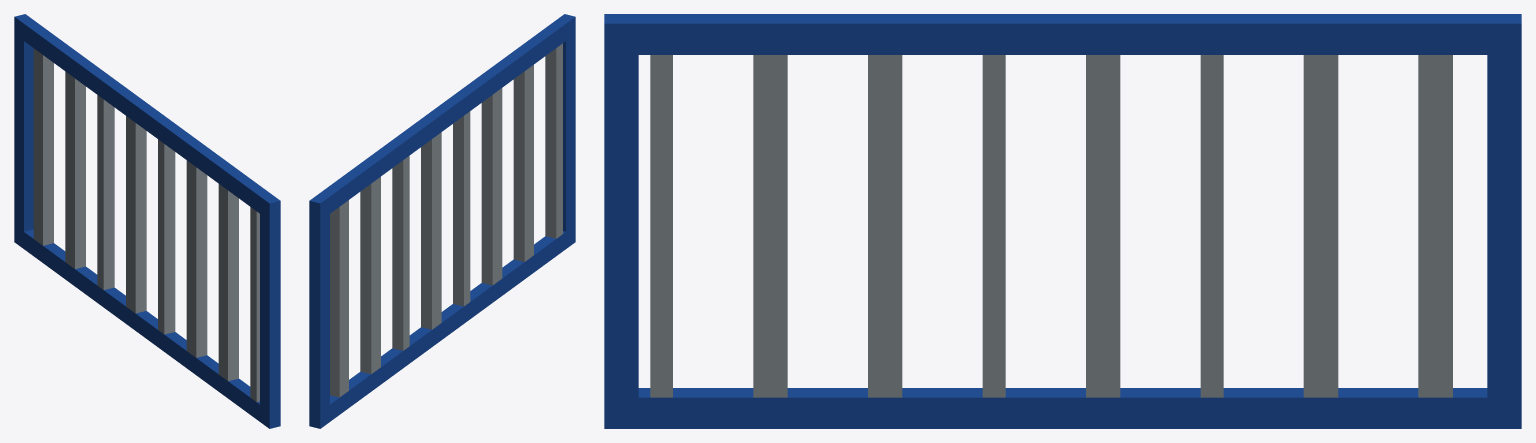
File: flatbed_truck_headboard.glb
3 renders of one model, left to right at view 1: azimuth 30°, elevation 25°; view 2: azimuth 150°, elevation 25°; view 3: azimuth 270°, elevation 25°, orthographic. The views are drawn at different scales.
Visible parts, largest first — view 1: body:compound; view 2: body:compound; view 3: body:compound.
Boxes of the visible parts, x1=… form: body:compound: x1=14, y1=14, x2=280, y2=428; body:compound: x1=309, y1=14, x2=575, y2=428; body:compound: x1=604, y1=14, x2=1521, y2=428.
Bounding box in the file's own units: 0.0625 × 1.22 × 2.5.
